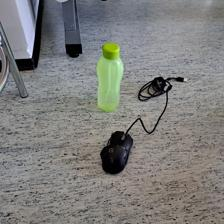bottle: (95, 41, 125, 113)
mouse: (99, 130, 133, 174)
